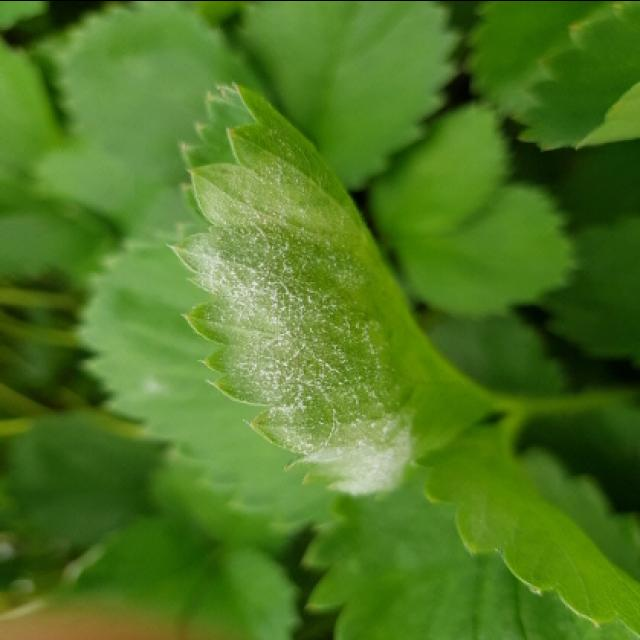Powdery Mildew Leaf: (163, 79, 496, 501)
